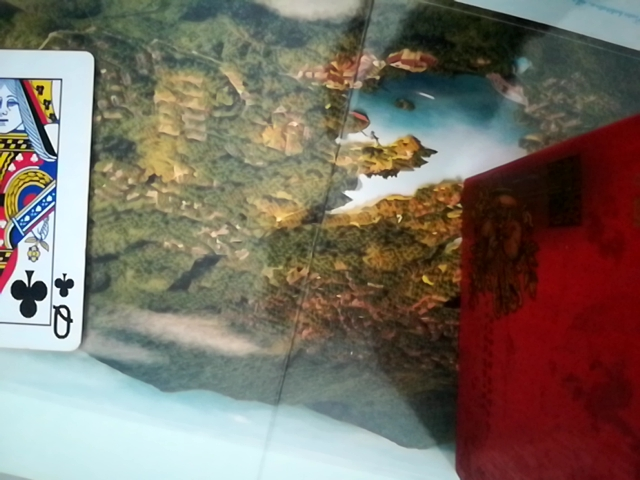mh q: (4, 42, 95, 349)
